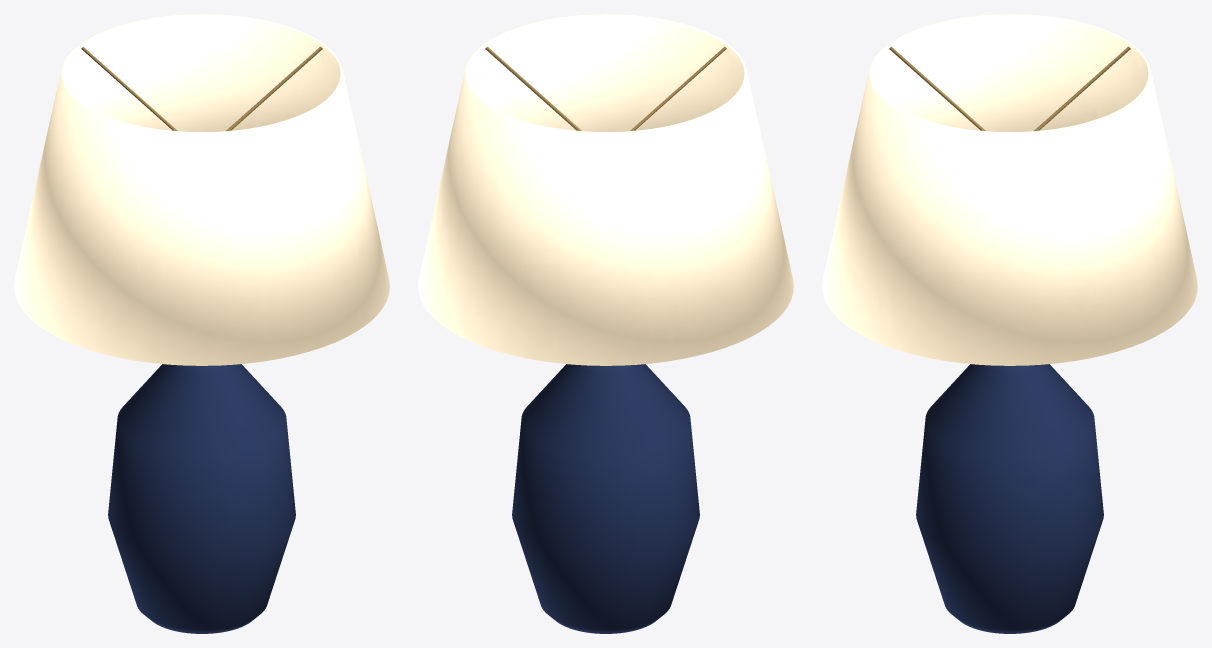
The model's file is table-indigo.glb.
3 renders of one model, left to right at view 1: azimuth 30°, elevation 25°; view 2: azimuth 150°, elevation 25°; view 3: azimuth 270°, elevation 25°, orthographic.
Visible parts, largest first — view 1: fabric_secondary_shade, ceramic_primary, brass; view 2: fabric_secondary_shade, ceramic_primary, brass; view 3: fabric_secondary_shade, ceramic_primary, brass.
Boxes of the visible parts, <box> form: fabric_secondary_shade: <box>14,14,389,365</box>; ceramic_primary: <box>108,364,295,633</box>; brass: <box>81,46,322,130</box>; fabric_secondary_shade: <box>418,14,793,365</box>; ceramic_primary: <box>512,364,699,633</box>; brass: <box>485,46,726,130</box>; fabric_secondary_shade: <box>822,14,1197,365</box>; ceramic_primary: <box>916,364,1103,633</box>; brass: <box>889,46,1130,130</box>.
Bounding box in the file's own units: 0.4 × 0.63 × 0.4.
Materials: 4 (3 with a texture image).
